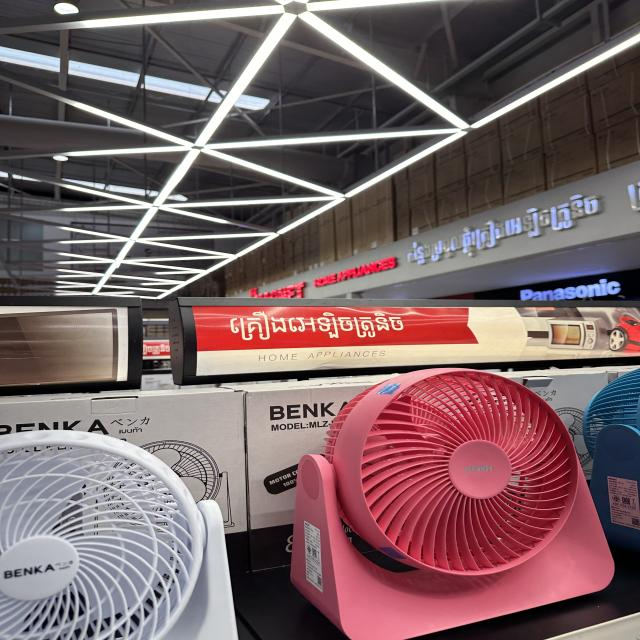Yolov11kh: (216, 309, 410, 346)
